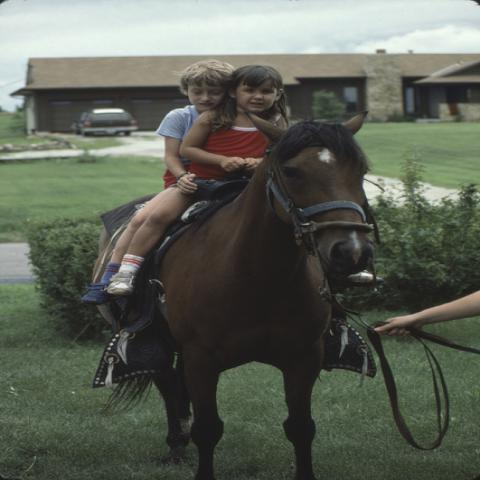car: (70, 108, 139, 137)
